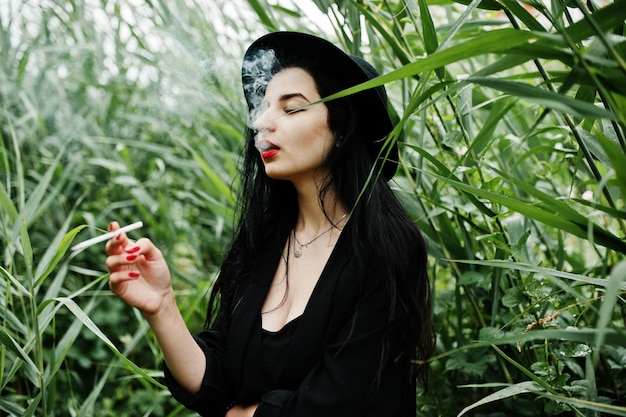cigarette: (68, 219, 146, 254)
